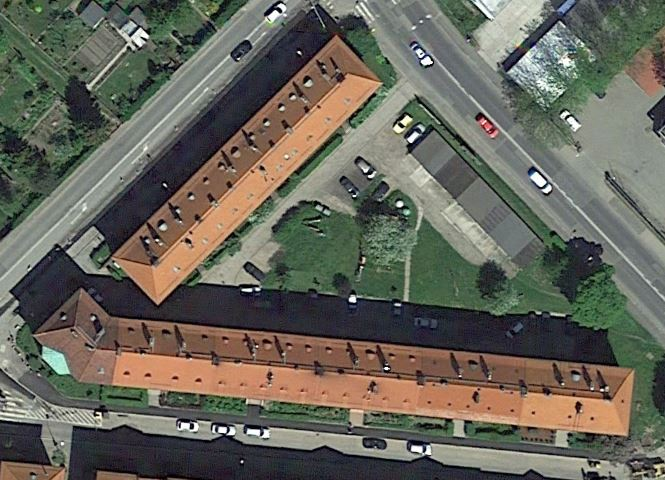block of flats: (29, 288, 640, 444), (105, 26, 382, 312)
